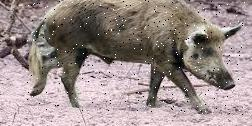Hog: (26, 0, 245, 115)
